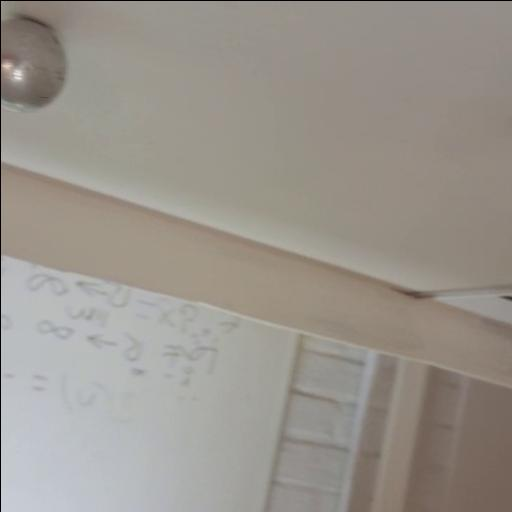alive: (0, 14, 68, 114)
